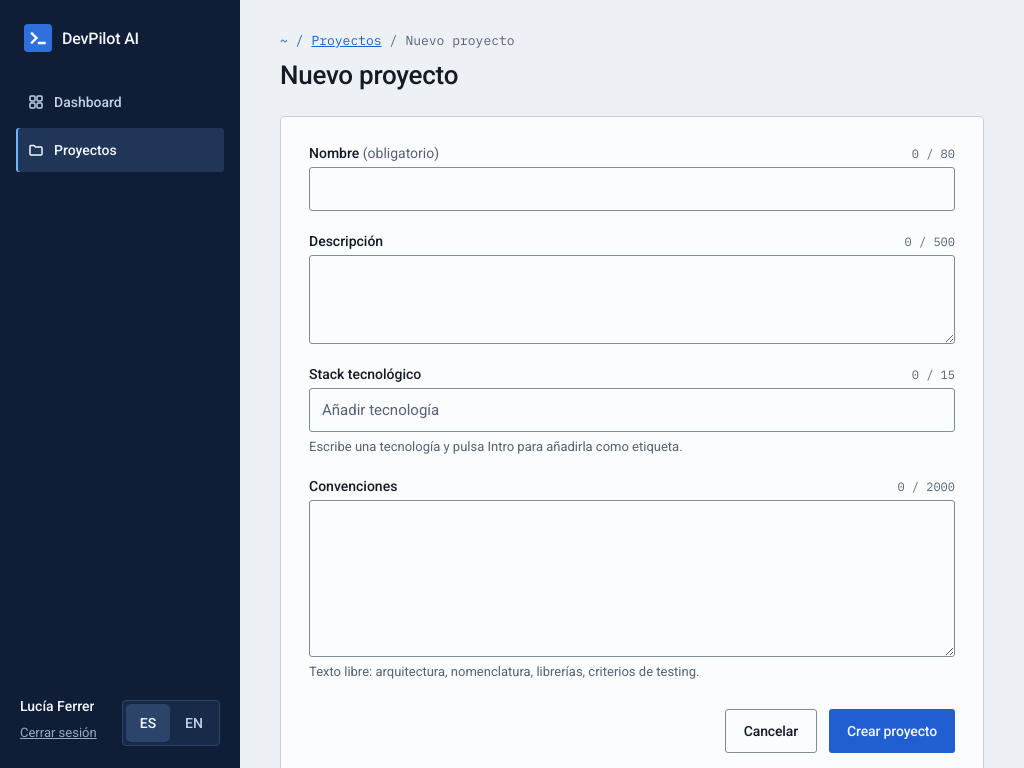
Scenario: creating a project › goes back to the list when the user cancels
What coordinates should you click on to do the following:
click the link "Cancelar"
I would click on:
 (771, 731)
Its box is x1=725 y1=709 x2=817 y2=753.
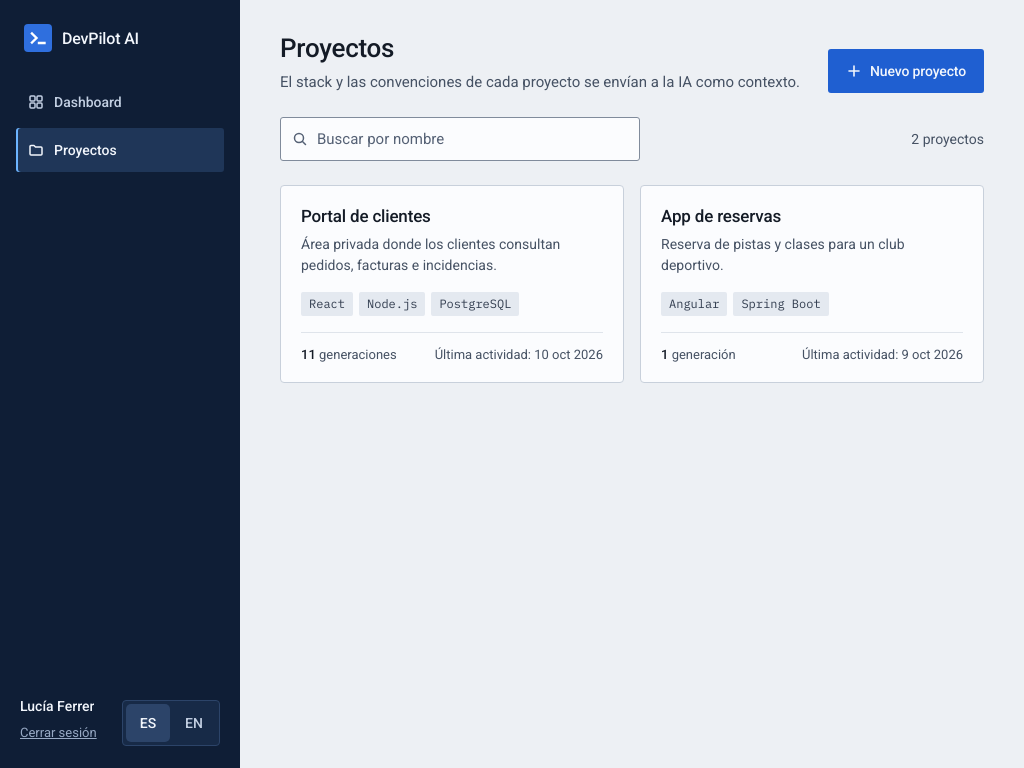
Expected: the link "Portal de clientes" is shown, x1=301 y1=206 x2=431 y2=226
